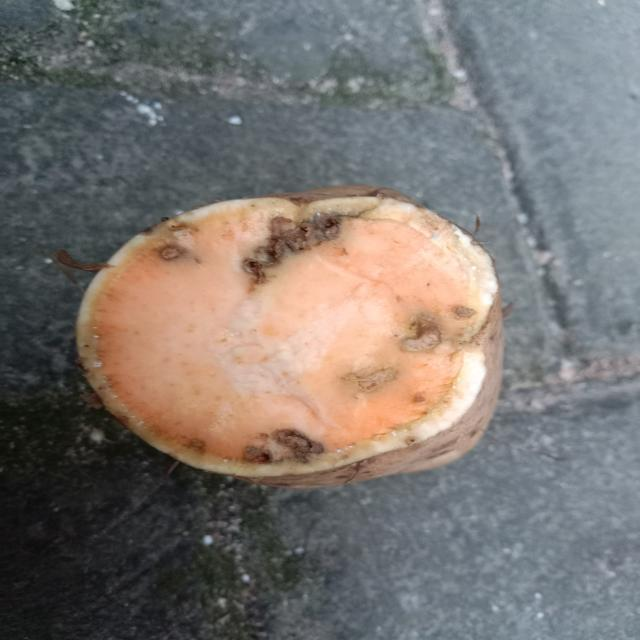Sick Sweet Potato_Tuber Rot: (77, 186, 503, 488)
